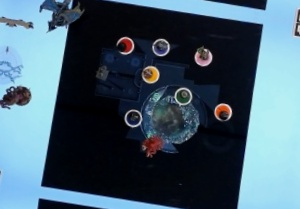blue: (116, 104, 146, 132)
green: (173, 83, 196, 107)
orange: (211, 100, 237, 125)
pink: (191, 45, 214, 68)
red: (114, 32, 137, 57)
violet: (149, 36, 173, 58)
yellow: (138, 62, 163, 85)
